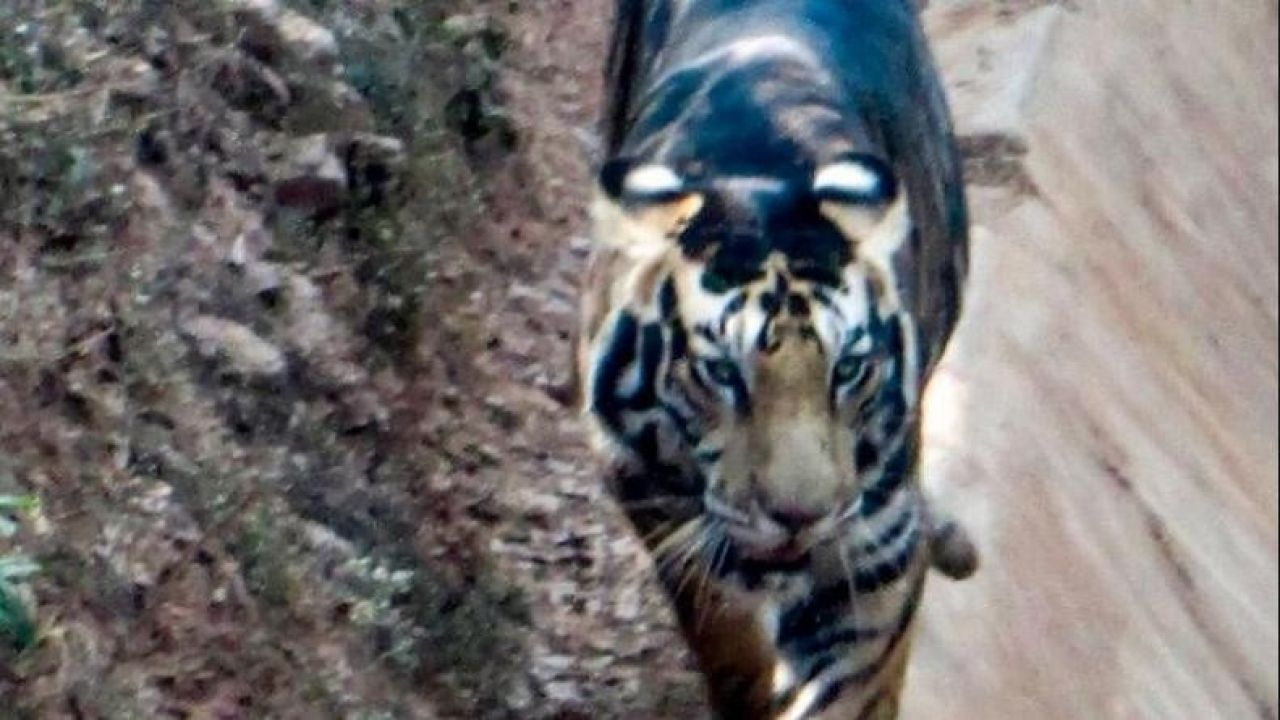Tigrew: (562, 24, 993, 680)
